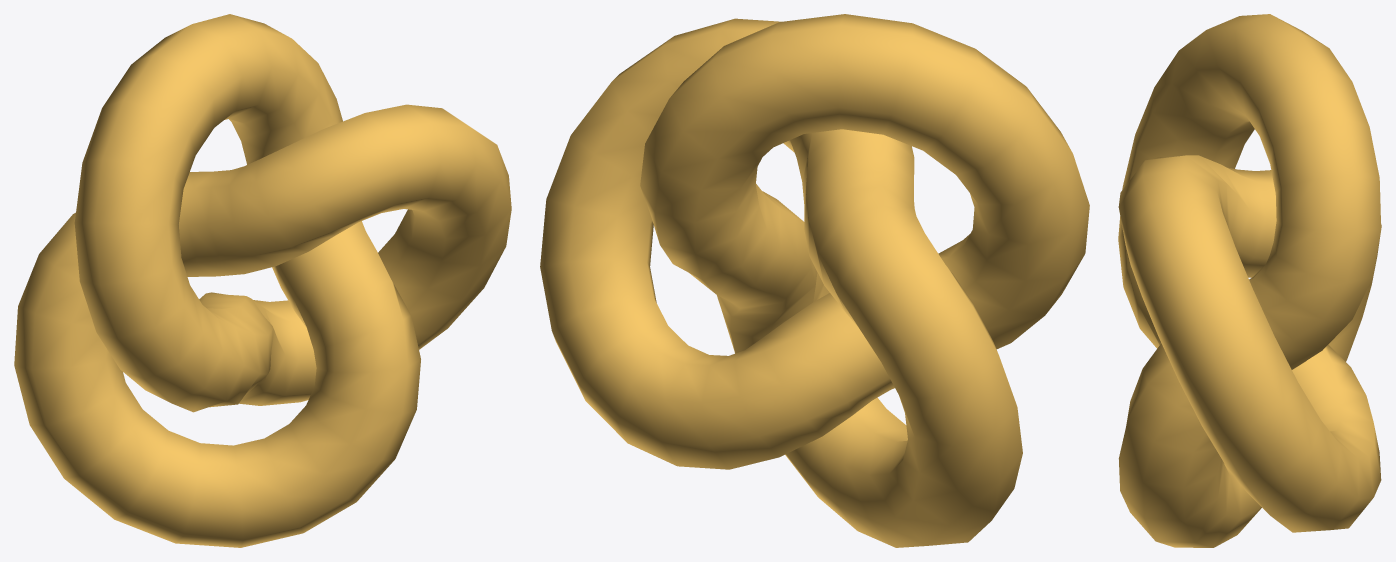
The model's file is torus-knot-low.glb.
3 renders of one model, left to right at view 1: azimuth 30°, elevation 25°; view 2: azimuth 150°, elevation 25°; view 3: azimuth 270°, elevation 25°, orthographic. The views are drawn at different scales.
Bounding box in the file's own units: 1.77 × 1.85 × 0.8808.
